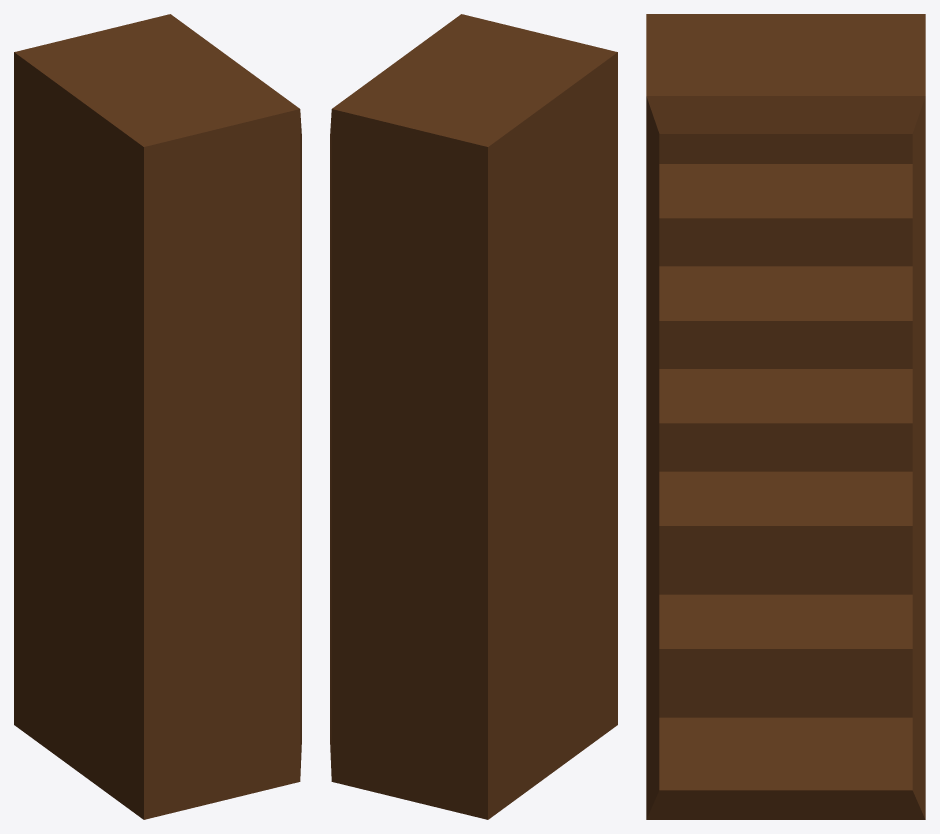
Rendered from Estante2.fbx.
3 renders of one model, left to right at view 1: azimuth 30°, elevation 25°; view 2: azimuth 150°, elevation 25°; view 3: azimuth 270°, elevation 25°, orthographic. The views are drawn at different scales.
Parts seen in each view (by area): view 1: Estante 2; view 2: Estante 2; view 3: Estante 2.
Boxes of the visible parts, box(x1,y1,x2,y2) form: Estante 2: box(14, 14, 301, 819); Estante 2: box(330, 14, 617, 819); Estante 2: box(646, 14, 925, 819).
Size of the model in its own units: 200 by 784 by 274.
